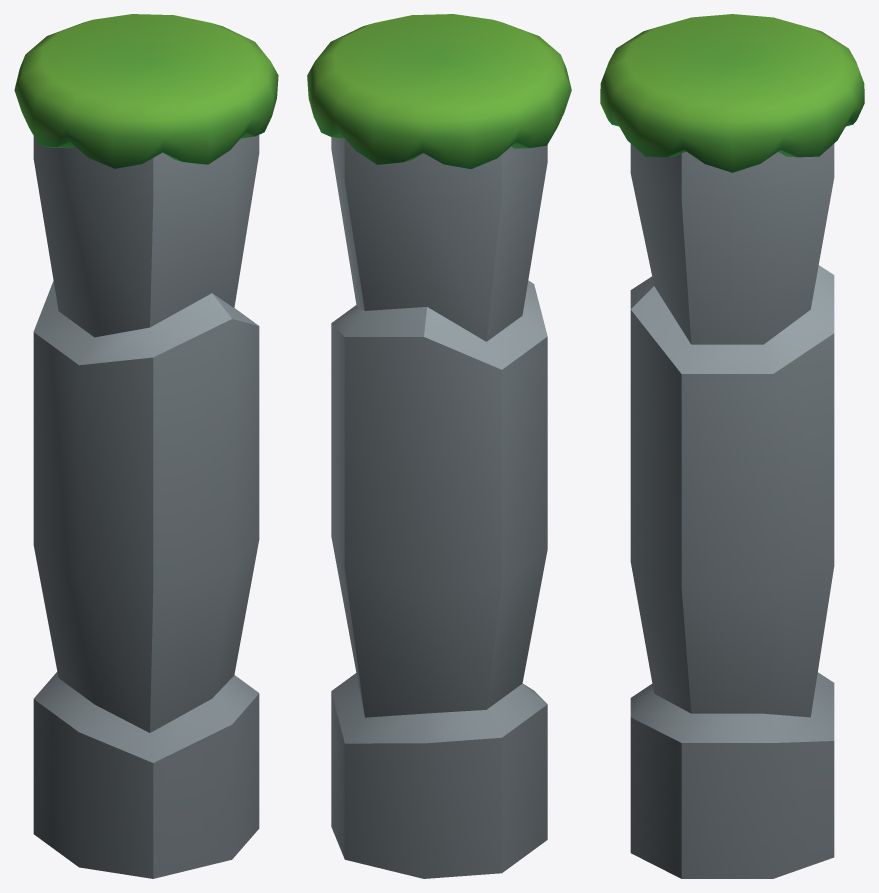
File: Hill_2x2x8_Color1.gltf
The picture shows the model from 3 angles, left to right: view 1: azimuth 30°, elevation 25°; view 2: azimuth 150°, elevation 25°; view 3: azimuth 270°, elevation 25°; orthographic projection.
Visible parts, largest first — view 1: Hill_2x2x8_Color1; view 2: Hill_2x2x8_Color1; view 3: Hill_2x2x8_Color1.
Part boxes in pixels (bbox=[...]): Hill_2x2x8_Color1: bbox=[14, 14, 278, 878]; Hill_2x2x8_Color1: bbox=[307, 14, 571, 878]; Hill_2x2x8_Color1: bbox=[600, 14, 864, 878].
Size of the model in its own units: 2.47 by 8 by 2.47.
1 material, 1 textured.
